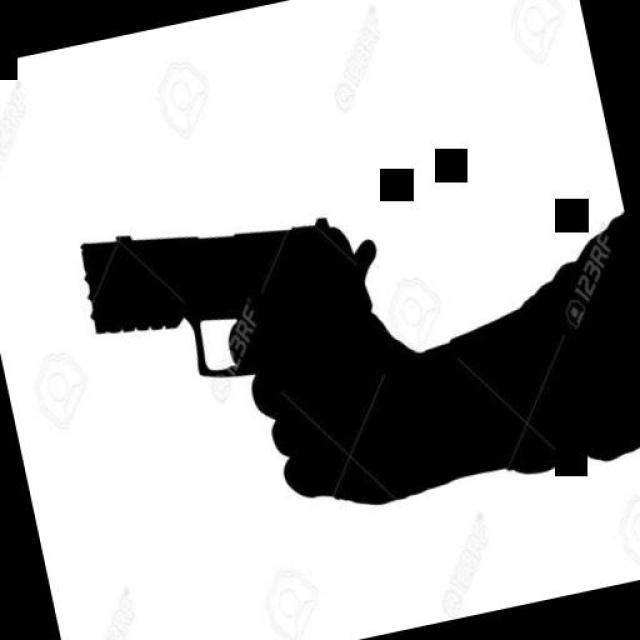gun: (75, 173, 424, 532)
